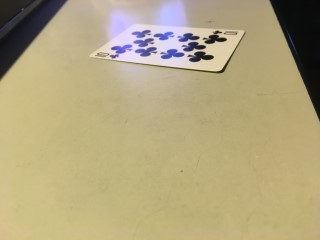TenOfClubs: (89, 23, 245, 71)
